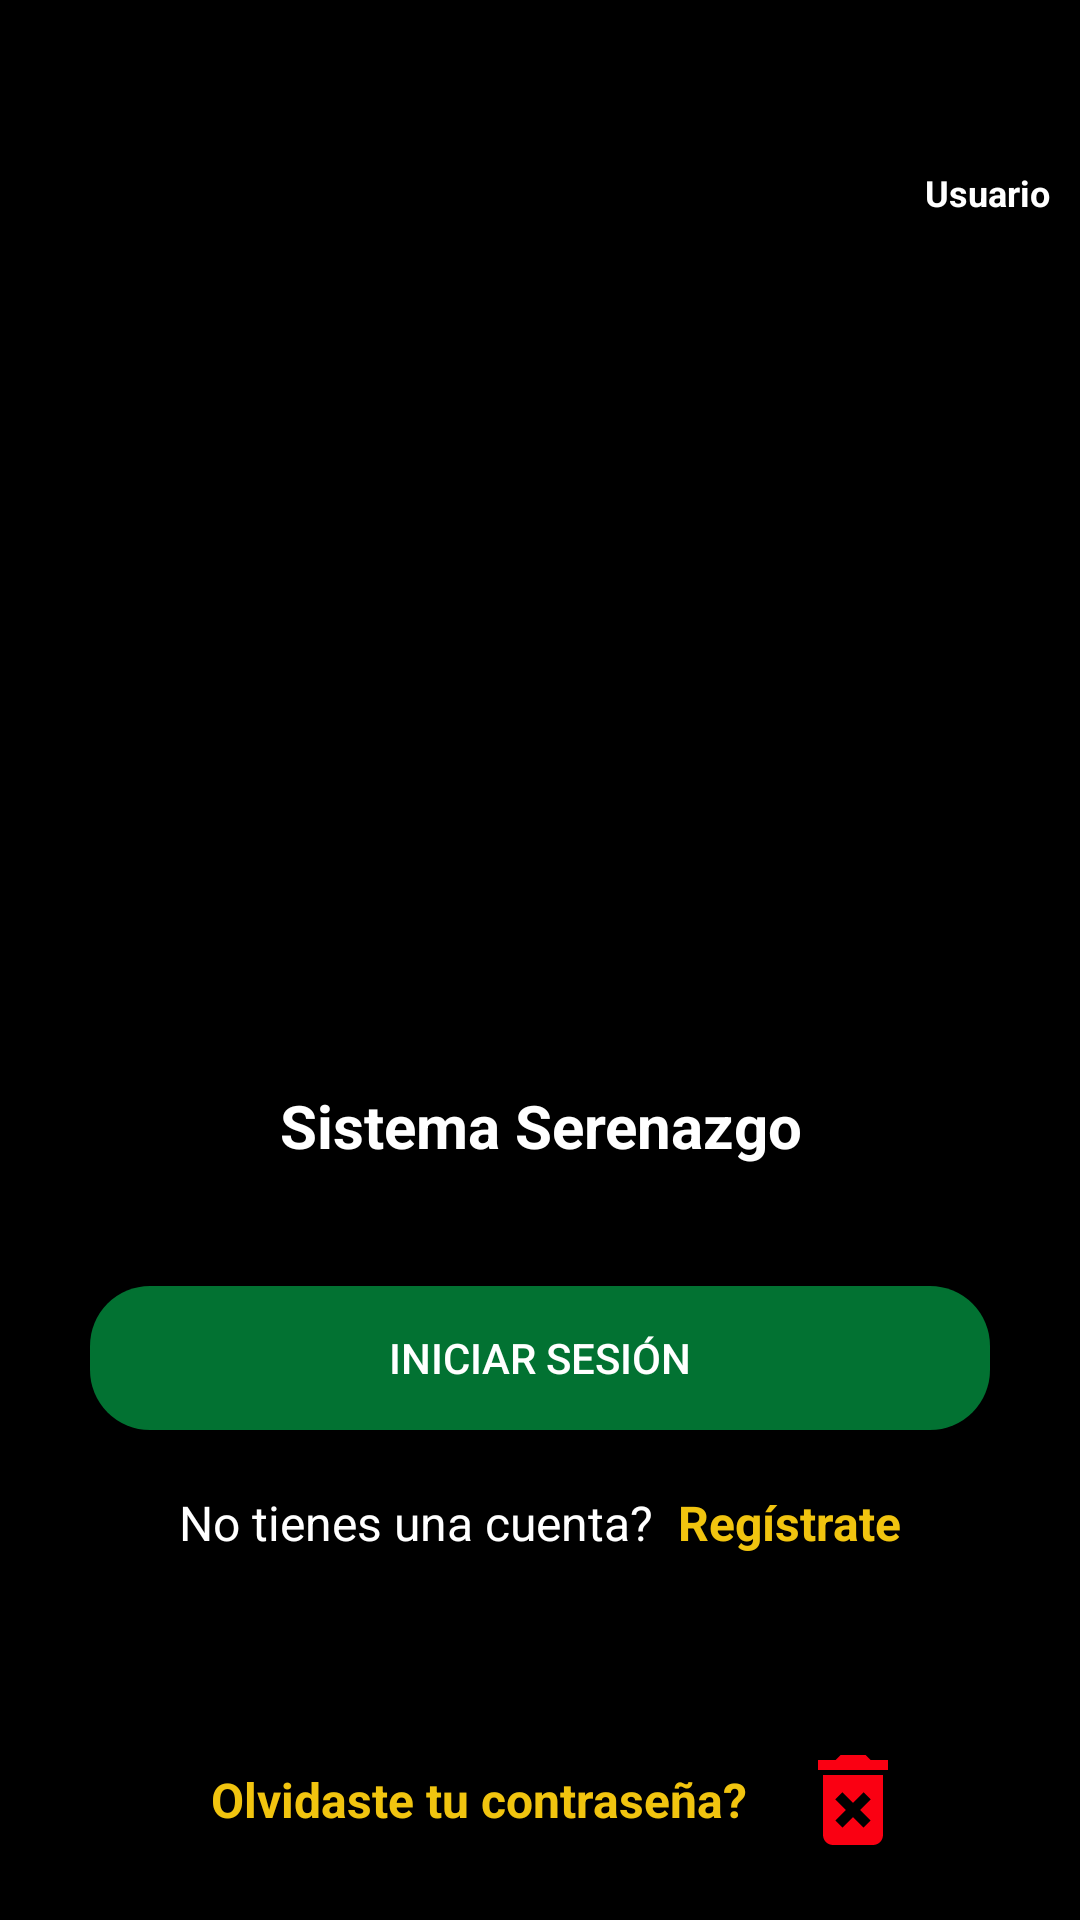

Icon bounding boxes for this 1080 x 1920 phone screenshot, format bbox=[x1, y1, x2, y2]:
delete db: bbox=[818, 1755, 888, 1845]
